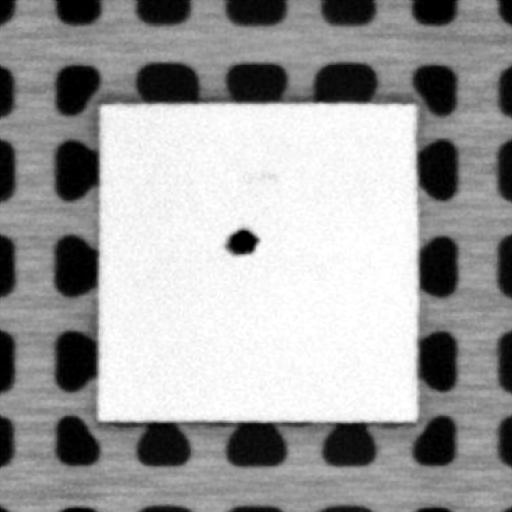DIE_INK: (222, 228, 260, 254)
